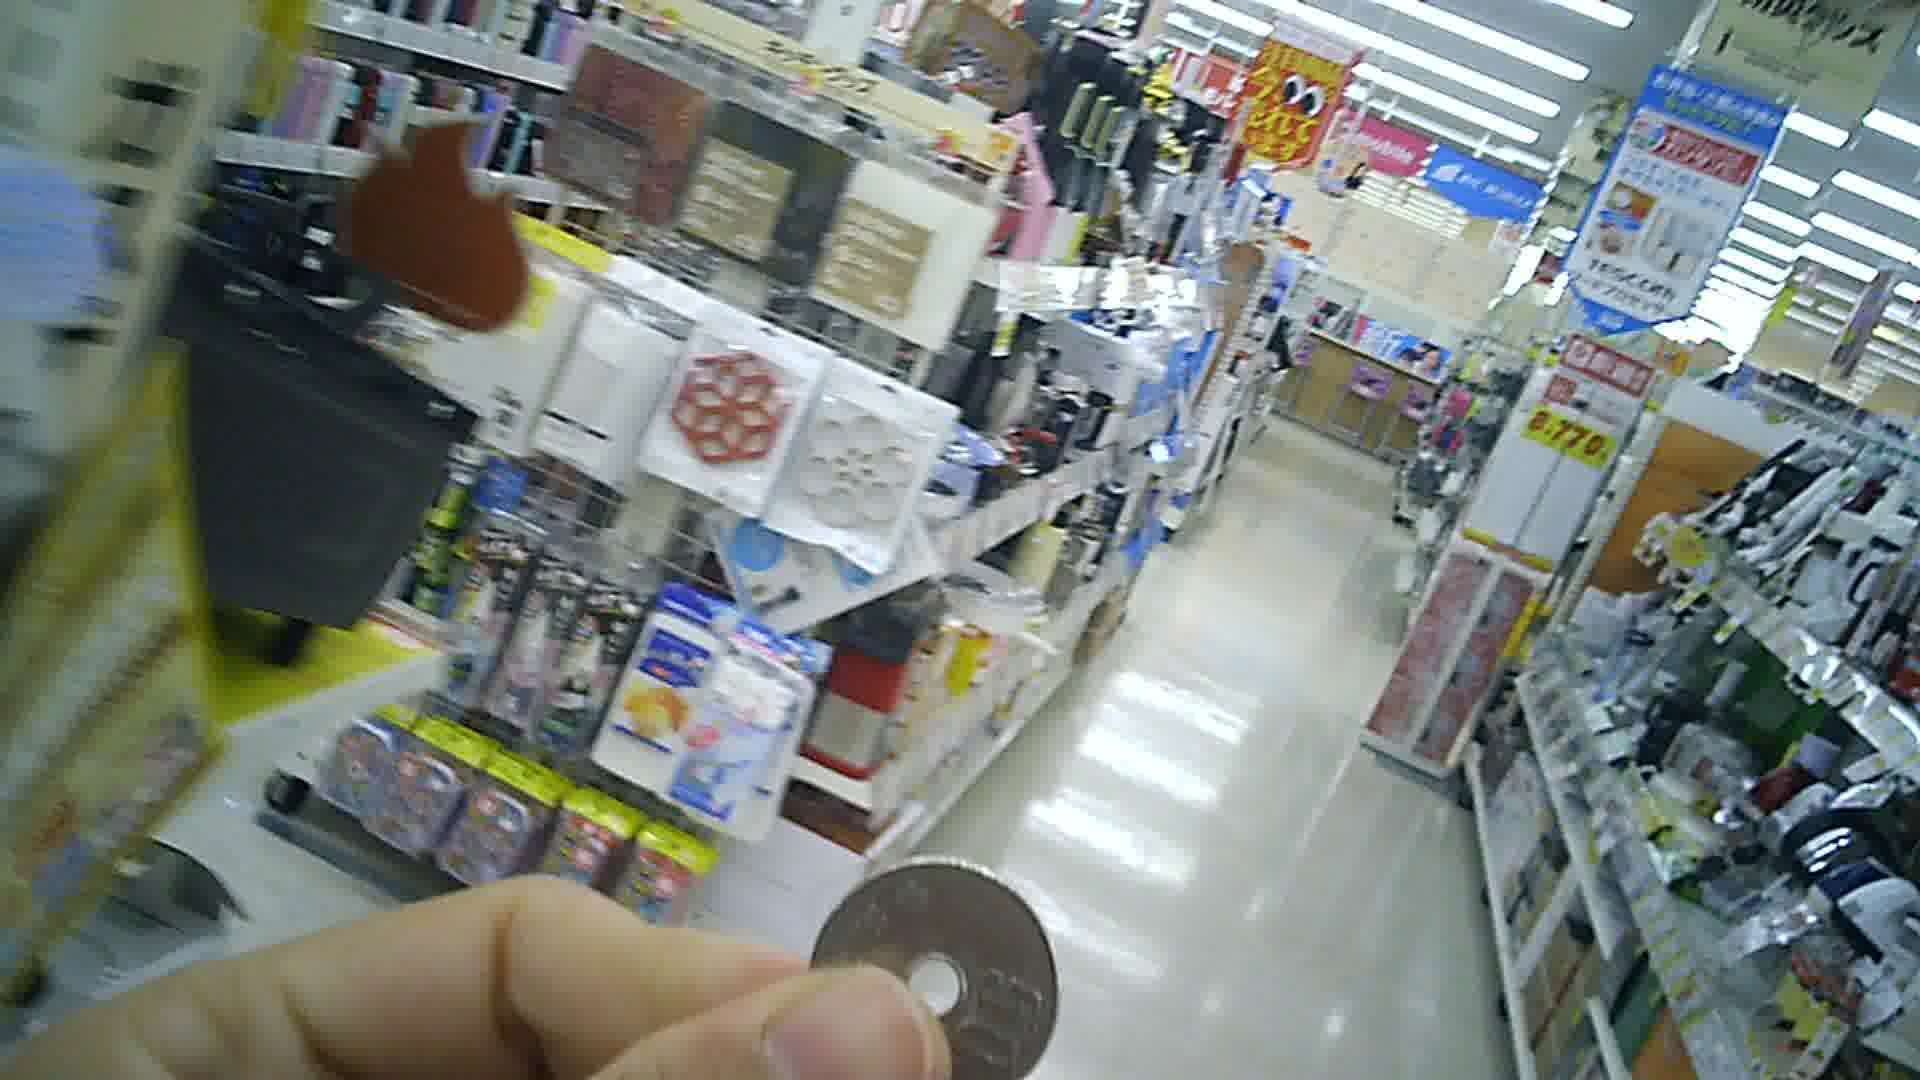50 Yen: (811, 861, 1065, 1079)
